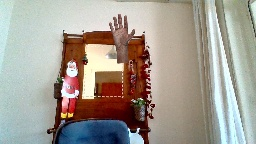Mano_aperta: (106, 12, 135, 47)
